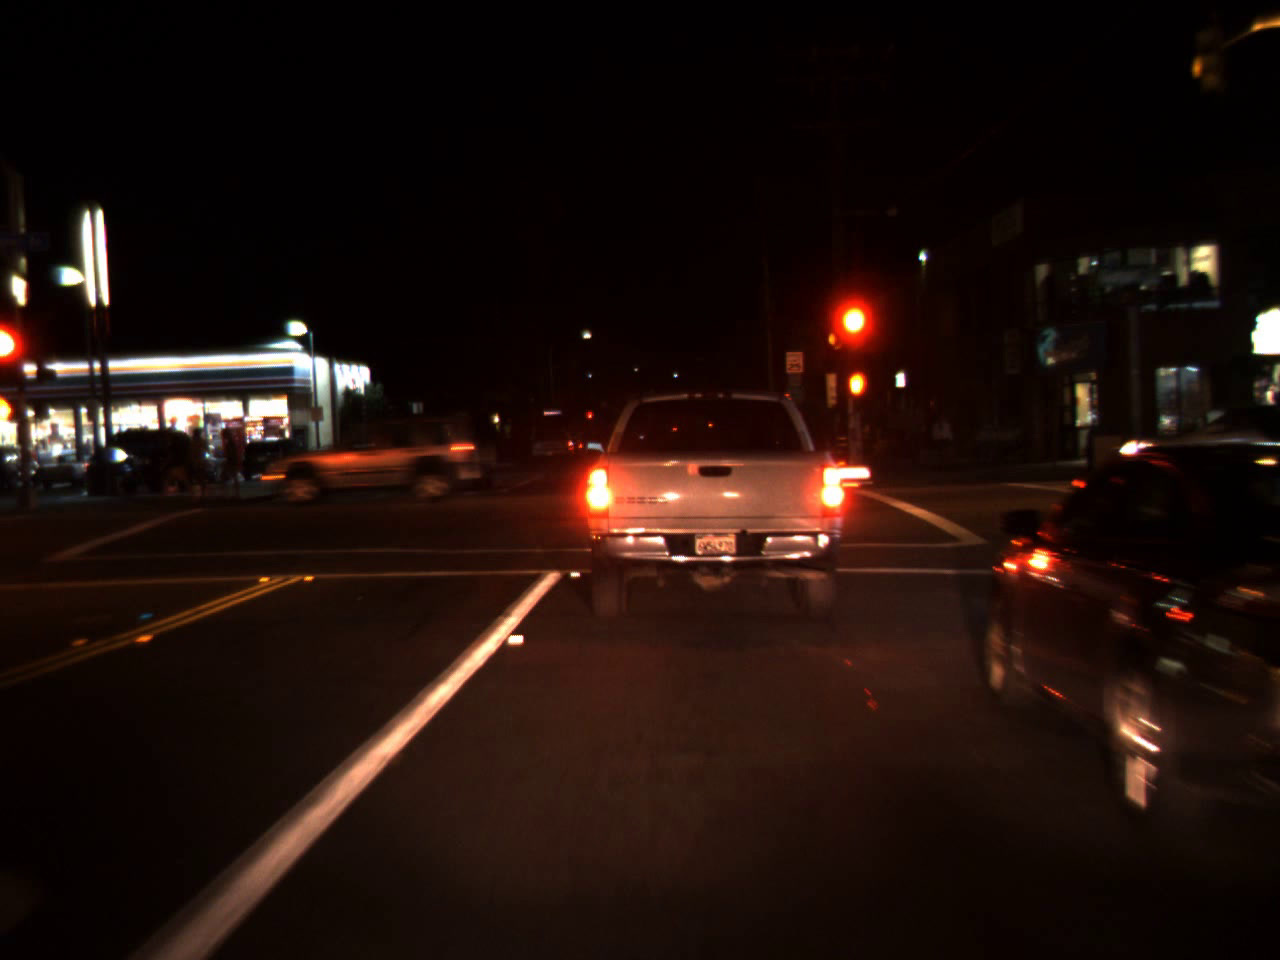stop: (835, 302, 871, 366), (0, 323, 19, 382), (587, 410, 593, 426)
